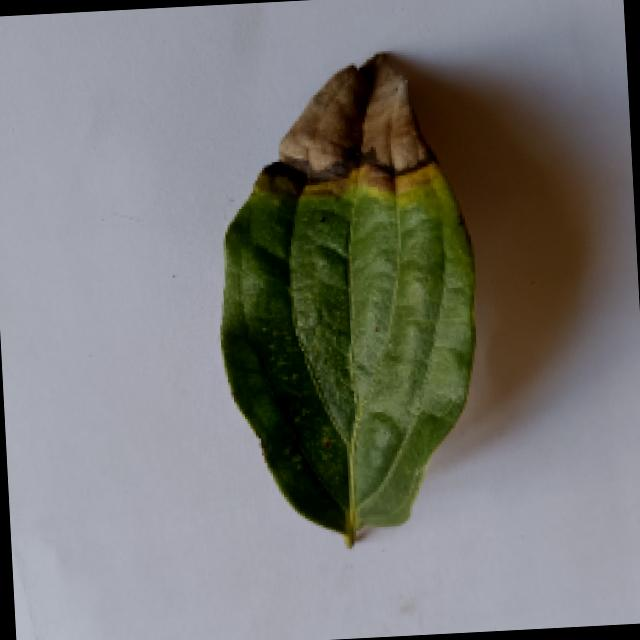footrot: (204, 50, 499, 548)
